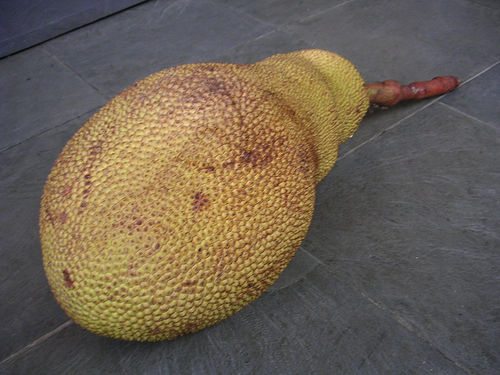jackfruit: (34, 49, 463, 359)
